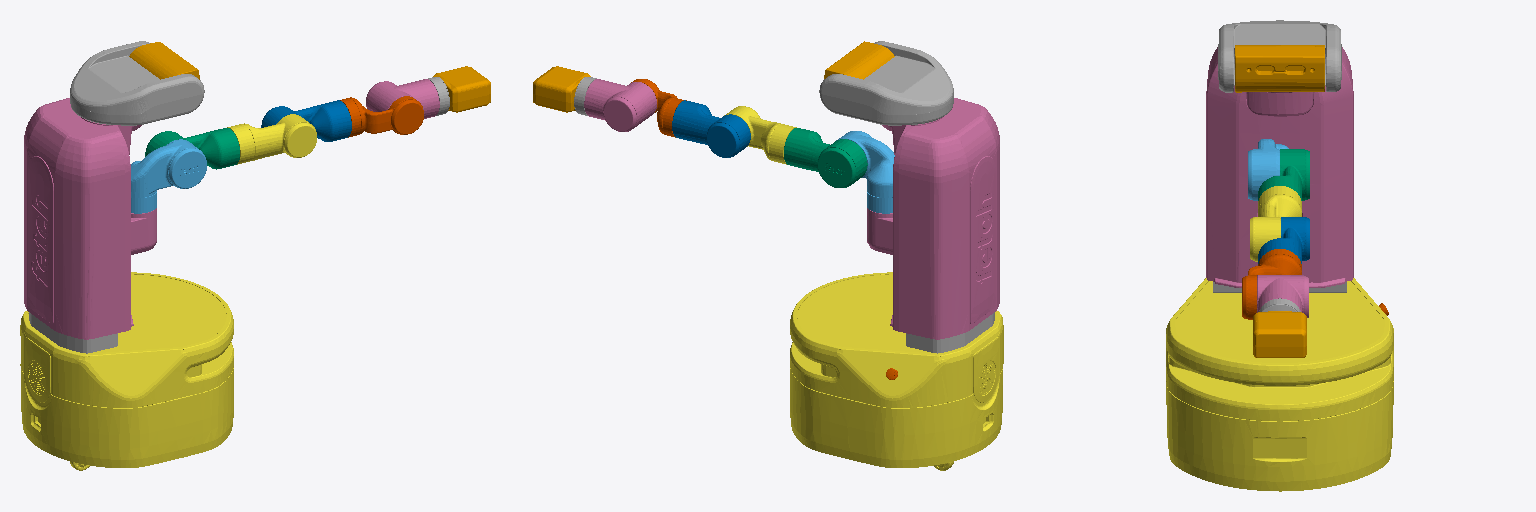
The robot description file, URDF, robot "fetch":
<robot name="fetch">

  <link name="root">
    <inertial>
      <mass value="0"/>
      <inertia ixx="0.00" ixy="0.00" ixz="0.00" iyy="0.00" iyz="0.00" izz="0.00"/>
    </inertial>
  </link>
  <link name="root_arm_1_link_1">
    <inertial>
      <mass value="0"/>
      <inertia ixx="0.00" ixy="0.00" ixz="0.00" iyy="0.00" iyz="0.00" izz="0.00"/>
    </inertial>
  </link>
  <link name="root_arm_1_link_2">
    <inertial>
      <mass value="0"/>
      <inertia ixx="0.00" ixy="0.00" ixz="0.00" iyy="0.00" iyz="0.00" izz="0.00"/>
    </inertial>
  </link>
  <joint name="root_x_axis_joint" type="prismatic">
    <parent link="root"/>
    <child link="root_arm_1_link_1"/>
    <axis xyz="1 0 0"/>
    <limit effort="100" lower="-20" upper="20" velocity="0.50"/>
    <dynamics damping="10.0" friction="10"/>
  </joint>
  <joint name="root_y_axis_joint" type="prismatic">
    <parent link="root_arm_1_link_1"/>
    <child link="root_arm_1_link_2"/>
    <axis xyz="0 1 0"/>
    <limit effort="100" lower="-20" upper="20" velocity="0.50"/>
    <dynamics damping="10.0" friction="10"/>
  </joint>
  <joint name="root_z_rotation_joint" type="revolute">
    <parent link="root_arm_1_link_2"/>
    <child link="base_link"/>
    <axis xyz="0 0 1"/>
    <dynamics damping="10.0" friction="1"/>
    <limit lower="-314" upper="314"/>
  </joint>

  <link name="base_link">
    <inertial>
      <origin rpy="0 0 0" xyz="-0.0036 0.0 0.0014"/>
      <mass value="70.1294"/>
      <inertia ixx="1.225" ixy="0.0099" ixz="0.0062" iyy="1.2853" iyz="-0.0034" izz="0.987"/>
    </inertial>
    <visual>
      <origin rpy="0 0 0" xyz="0 0 0"/>
      <geometry>
        <mesh filename="fetch_description/meshes/base_link.obj"/>
      </geometry>
    </visual>
    <collision>
      <origin rpy="0 0 0" xyz="0 0 0"/>
      <geometry>
        <mesh filename="fetch_description/meshes/base_link_collision.STL"/>
      </geometry>
    </collision>
  </link>
  <link name="r_wheel_link">
    <inertial>
      <origin rpy="0 0 0" xyz="0 0 0"/>
      <mass value="4.3542"/>
      <inertia ixx="0.0045" ixy="0" ixz="0" iyy="0.005" iyz="0" izz="0.0045"/>
    </inertial>
    <visual>
      <origin rpy="0 0 0" xyz="0 0 0"/>
      <geometry>
        <mesh filename="fetch_description/meshes/r_wheel_link.STL"/>
      </geometry>
      <material name="">
        <color rgba="0.086 0.506 0.767 1"/>
      </material>
    </visual>
    <collision>
      <origin rpy="0 0 0" xyz="0 0 0"/>
      <geometry>
        <mesh filename="fetch_description/meshes/r_wheel_link_collision.STL"/>
      </geometry>
    </collision>
  </link>
  <joint name="r_wheel_joint" type="fixed">
    <origin rpy="-6.123E-17 0 0" xyz="0.0012914 -0.18738 0.055325"/>
    <parent link="base_link"/>
    <child link="r_wheel_link"/>
    <axis xyz="0 1 0"/>
    <limit effort="8.85" velocity="17.4"/>
  </joint>
  <link name="l_wheel_link">
    <inertial>
      <origin rpy="0 0 0" xyz="0 0 0"/>
      <mass value="4.3542"/>
      <inertia ixx="0.0045" ixy="0" ixz="0" iyy="0.005" iyz="0" izz="0.0045"/>
    </inertial>
    <visual>
      <origin rpy="0 0 0" xyz="0 0 0"/>
      <geometry>
        <mesh filename="fetch_description/meshes/l_wheel_link.STL"/>
      </geometry>
      <material name="">
        <color rgba="0.086 0.506 0.767 1"/>
      </material>
    </visual>
    <collision>
      <origin rpy="0 0 0" xyz="0 0 0"/>
      <geometry>
        <mesh filename="fetch_description/meshes/l_wheel_link_collision.STL"/>
      </geometry>
    </collision>
  </link>
  <joint name="l_wheel_joint" type="fixed">
    <origin rpy="-6.123E-17 0 0" xyz="0.0012914 0.18738 0.055325"/>
    <parent link="base_link"/>
    <child link="l_wheel_link"/>
    <axis xyz="0 1 0"/>
    <limit effort="8.85" velocity="17.4"/>
  </joint>
  <link name="torso_lift_link">
    <inertial>
      <origin rpy="0 0 0" xyz="-0.0013 -0.0009 0.2935"/>
      <mass value="10.7796"/>
      <inertia ixx="0.3354" ixy="0.0" ixz="-0.0162" iyy="0.3354" iyz="-0.0006" izz="0.0954"/>
    </inertial>
    <visual>
      <origin rpy="0 0 0" xyz="0 0 0"/>
      <geometry>
        <mesh filename="fetch_description/meshes/torso_lift_link.obj"/>
      </geometry>
    </visual>
    <collision>
      <origin rpy="0 0 0" xyz="0 0 0"/>
      <geometry>
        <mesh filename="fetch_description/meshes/torso_lift_link_collision.STL"/>
      </geometry>
    </collision>
  </link>
  <joint name="torso_lift_joint" type="prismatic">
    <origin rpy="-6.123E-17 0 0" xyz="-0.086875 0 0.37743"/>
    <parent link="base_link"/>
    <child link="torso_lift_link"/>
    <axis xyz="0 0 1"/>
    <limit effort="450.0" lower="0" upper="0.38615" velocity="0.1"/>
    <dynamics damping="100.0"/>
  </joint>
  <link name="head_pan_link">
    <inertial>
      <origin rpy="0 0 0" xyz="0.0321 0.0161 0.0390"/>
      <mass value="2.2556"/>
      <inertia ixx="0.0129" ixy="0.0002" ixz="0.0007" iyy="0.0095" iyz="-0.0" izz="0.0184"/>
    </inertial>
    <visual>
      <origin rpy="0 0 0" xyz="0 0 0"/>
      <geometry>
        <mesh filename="fetch_description/meshes/head_pan_link.obj"/>
      </geometry>
    </visual>
    <collision>
      <origin rpy="0 0 0" xyz="0 0 0"/>
      <geometry>
        <mesh filename="fetch_description/meshes/head_pan_link_collision.STL"/>
      </geometry>
    </collision>
  </link>
  <joint name="head_pan_joint" type="revolute">
    <origin rpy="0 0 0" xyz="0.053125 0 0.603001417713939"/>
    <parent link="torso_lift_link"/>
    <child link="head_pan_link"/>
    <axis xyz="0 0 1"/>
    <limit effort="0.32" lower="-1.57" upper="1.57" velocity="1.57"/>
  </joint>
  <link name="head_tilt_link">
    <inertial>
      <origin rpy="0 0 0" xyz="0.0081 0.0025 0.0113"/>
      <mass value="0.9087"/>
      <inertia ixx="0.0061" ixy="-0.0" ixz="0.0002" iyy="0.0014" iyz="-0.0001" izz="0.0061"/>
    </inertial>
    <visual>
      <origin rpy="0 0 0" xyz="0 0 0"/>
      <geometry>
        <mesh filename="fetch_description/meshes/head_tilt_link.obj"/>
      </geometry>
    </visual>
    <collision>
      <origin rpy="0 0 0" xyz="0 0 0"/>
      <geometry>
        <mesh filename="fetch_description/meshes/head_tilt_link_collision.STL"/>
      </geometry>
    </collision>
  </link>
  <joint name="head_tilt_joint" type="revolute">
    <origin rpy="0 0 0" xyz="0.14253 0 0.057999"/>
    <parent link="head_pan_link"/>
    <child link="head_tilt_link"/>
    <axis xyz="0 1 0"/>
    <limit effort="0.68" lower="-0.76" upper="1.45" velocity="1.57"/>
  </joint>
  <link name="shoulder_pan_link">
    <inertial>
      <origin rpy="0 0 0" xyz="0.0927 -0.0056 0.0564"/>
      <mass value="2.5587"/>
      <inertia ixx="0.0043" ixy="-0.0001" ixz="0.001" iyy="0.0087" iyz="-0.0001" izz="0.0087"/>
    </inertial>
    <visual>
      <origin rpy="0 0 0" xyz="0 0 0"/>
      <geometry>
        <mesh filename="fetch_description/meshes/shoulder_pan_link.obj"/>
      </geometry>
    </visual>
    <collision>
      <origin rpy="0 0 0" xyz="0 0 0"/>
      <geometry>
        <mesh filename="fetch_description/meshes/shoulder_pan_link_collision.STL"/>
      </geometry>
    </collision>
  </link>
  <joint name="shoulder_pan_joint" type="revolute">
    <origin rpy="0 0 0" xyz="0.119525 0 0.34858"/>
    <parent link="torso_lift_link"/>
    <child link="shoulder_pan_link"/>
    <axis xyz="0 0 1"/>
    <dynamics damping="1.0"/>
    <limit effort="33.82" lower="-1.6056" upper="1.6056" velocity="1.256"/>
  </joint>
  <link name="shoulder_lift_link">
    <inertial>
      <origin rpy="0 0 0" xyz="0.1432 0.0072 -0.0001"/>
      <mass value="2.6615"/>
      <inertia ixx="0.0028" ixy="-0.0021" ixz="-0.0" iyy="0.0111" iyz="-0.0" izz="0.0112"/>
    </inertial>
    <visual>
      <origin rpy="0 0 0" xyz="0 0 0"/>
      <geometry>
        <mesh filename="fetch_description/meshes/shoulder_lift_link.obj"/>
      </geometry>
    </visual>
    <collision>
      <origin rpy="0 0 0" xyz="0 0 0"/>
      <geometry>
        <mesh filename="fetch_description/meshes/shoulder_lift_link_collision.STL"/>
      </geometry>
    </collision>
  </link>
  <joint name="shoulder_lift_joint" type="revolute">
    <origin rpy="0 0 0" xyz="0.117 0 0.0599999999999999"/>
    <parent link="shoulder_pan_link"/>
    <child link="shoulder_lift_link"/>
    <axis xyz="0 1 0"/>
    <dynamics damping="1.0"/>
    <limit effort="131.76" lower="-1.221" upper="1.518" velocity="1.454"/>
  </joint>
  <link name="upperarm_roll_link">
    <inertial>
      <origin rpy="0 0 0" xyz="0.1165 0.0014 0.0000"/>
      <mass value="2.3311"/>
      <inertia ixx="0.0019" ixy="-0.0001" ixz="0.0" iyy="0.0045" iyz="0.0" izz="0.0047"/>
    </inertial>
    <visual>
      <origin rpy="0 0 0" xyz="0 0 0"/>
      <geometry>
        <mesh filename="fetch_description/meshes/upperarm_roll_link.obj"/>
      </geometry>
    </visual>
    <collision>
      <origin rpy="0 0 0" xyz="0 0 0"/>
      <geometry>
        <mesh filename="fetch_description/meshes/upperarm_roll_link_collision.STL"/>
      </geometry>
    </collision>
  </link>
  <joint name="upperarm_roll_joint" type="revolute">
    <origin rpy="0 0 0" xyz="0.219 0 0"/>
    <parent link="shoulder_lift_link"/>
    <child link="upperarm_roll_link"/>
    <axis xyz="1 0 0"/>
    <dynamics damping="5.0"/>
    <limit effort="76.94" lower="-314" upper="314" velocity="1.571"/>
  </joint>
  <link name="elbow_flex_link">
    <inertial>
      <origin rpy="0 0 0" xyz="0.1279 0.0073 0.0000"/>
      <mass value="2.1299"/>
      <inertia ixx="0.0024" ixy="-0.0016" ixz="0.0" iyy="0.0082" iyz="-0.0" izz="0.0084"/>
    </inertial>
    <visual>
      <origin rpy="0 0 0" xyz="0 0 0"/>
      <geometry>
        <mesh filename="fetch_description/meshes/elbow_flex_link.obj"/>
      </geometry>
    </visual>
    <collision>
      <origin rpy="0 0 0" xyz="0 0 0"/>
      <geometry>
        <mesh filename="fetch_description/meshes/elbow_flex_link_collision.STL"/>
      </geometry>
    </collision>
  </link>
  <joint name="elbow_flex_joint" type="revolute">
    <origin rpy="0 0 0" xyz="0.133 0 0"/>
    <parent link="upperarm_roll_link"/>
    <child link="elbow_flex_link"/>
    <axis xyz="0 1 0"/>
    <dynamics damping="1.0"/>
    <limit effort="66.18" lower="-2.251" upper="2.251" velocity="1.521"/>
  </joint>
  <link name="forearm_roll_link">
    <inertial>
      <origin rpy="0 0 0" xyz="0.1097 -0.0266 0.0000"/>
      <mass value="1.6563"/>
      <inertia ixx="0.0016" ixy="-0.0003" ixz="0.0" iyy="0.003" iyz="-0.0" izz="0.0035"/>
    </inertial>
    <visual>
      <origin rpy="0 0 0" xyz="0 0 0"/>
      <geometry>
        <mesh filename="fetch_description/meshes/forearm_roll_link.obj"/>
      </geometry>
    </visual>
    <collision>
      <origin rpy="0 0 0" xyz="0 0 0"/>
      <geometry>
        <mesh filename="fetch_description/meshes/forearm_roll_link_collision.STL"/>
      </geometry>
    </collision>
  </link>
  <joint name="forearm_roll_joint" type="revolute">
    <origin rpy="0 0 0" xyz="0.197 0 0"/>
    <parent link="elbow_flex_link"/>
    <child link="forearm_roll_link"/>
    <axis xyz="1 0 0"/>
    <dynamics damping="5.0"/>
    <limit effort="29.35" lower="-314" upper="314" velocity="1.571"/>
  </joint>
  <link name="wrist_flex_link">
    <inertial>
      <origin rpy="0 0 0" xyz="0.0882 0.0009 -0.0001"/>
      <mass value="1.725"/>
      <inertia ixx="0.0018" ixy="-0.0001" ixz="-0.0" iyy="0.0042" iyz="0.0" izz="0.0042"/>
    </inertial>
    <visual>
      <origin rpy="0 0 0" xyz="0 0 0"/>
      <geometry>
        <mesh filename="fetch_description/meshes/wrist_flex_link.obj"/>
      </geometry>
    </visual>
    <collision>
      <origin rpy="0 0 0" xyz="0 0 0"/>
      <geometry>
        <mesh filename="fetch_description/meshes/wrist_flex_link_collision.STL"/>
      </geometry>
    </collision>
  </link>
  <joint name="wrist_flex_joint" type="revolute">
    <origin rpy="0 0 0" xyz="0.1245 0 0"/>
    <parent link="forearm_roll_link"/>
    <child link="wrist_flex_link"/>
    <axis xyz="0 1 0"/>
    <dynamics damping="1.0"/>
    <limit effort="25.7" lower="-2.16" upper="2.16" velocity="2.268"/>
  </joint>
  <link name="wrist_roll_link">
    <inertial>
      <origin rpy="0 0 0" xyz="0.0095 0.0004 -0.0002"/>
      <mass value="0.1354"/>
      <inertia ixx="0.0001" ixy="0.0" ixz="0.0" iyy="0.0001" iyz="0.0" izz="0.0001"/>
    </inertial>
    <visual>
      <origin rpy="0 0 0" xyz="0 0 0"/>
      <geometry>
        <mesh filename="fetch_description/meshes/wrist_roll_link.obj"/>
      </geometry>
    </visual>
    <collision>
      <origin rpy="0 0 0" xyz="0 0 0"/>
      <geometry>
        <mesh filename="fetch_description/meshes/wrist_roll_link_collision.STL"/>
      </geometry>
    </collision>
  </link>
  <joint name="wrist_roll_joint" type="revolute">
    <origin rpy="0 0 0" xyz="0.1385 0 0"/>
    <parent link="wrist_flex_link"/>
    <child link="wrist_roll_link"/>
    <axis xyz="1 0 0"/>
    <limit effort="7.36" lower="-314" upper="314" velocity="2.268"/>
    <dynamics damping="5.0"/>
  </joint>
  <link name="gripper_link">
    <inertial>
      <origin rpy="0 0 0" xyz="-0.0900 -0.0001 -0.0017"/>
      <mass value="1.5175"/>
      <inertia ixx="0.0013" ixy="-0.0" ixz="0.0" iyy="0.0019" iyz="-0.0" izz="0.0024"/>
    </inertial>
    <visual>
      <origin rpy="0 0 0" xyz="0 0 0"/>
      <geometry>
        <mesh filename="fetch_description/meshes/gripper_link.obj"/>
      </geometry>
    </visual>
    <collision>
      <origin rpy="0 0 0" xyz="0 0 0"/>
      <geometry>
        <mesh filename="fetch_description/meshes/gripper_link.STL"/>
      </geometry>
    </collision>
  </link>
  <joint name="gripper_axis" type="fixed">
    <origin rpy="0 0 0" xyz="0.16645 0 0"/>
    <parent link="wrist_roll_link"/>
    <child link="gripper_link"/>
    <axis xyz="0 1 0"/>
  </joint>
  <link name="r_gripper_finger_link">
    <inertial>
      <origin rpy="0 0 0" xyz="-0.01 0 0"/>
      <mass value="0.0798"/>
      <inertia ixx="0.002" ixy="0" ixz="0" iyy="0.0002" iyz="0" izz="0.0002"/>
    </inertial>
    <visual>
      <origin rpy="0 0 0" xyz="0 0.101425 0"/>
      <geometry>
        <mesh filename="fetch_description/meshes/r_gripper_finger_link.STL"/>
      </geometry>
      <material name="">
        <color rgba="0.356 0.361 0.376 1"/>
      </material>
    </visual>
    <collision>
      <origin rpy="0 0 0" xyz="0 -0.008 0"/>
      <geometry>
        <box size="0.063 0.012 0.024"/>
      </geometry>
    </collision>
  </link>
  <joint name="r_gripper_finger_joint" type="prismatic">
    <origin rpy="0 0 0" xyz="0 0.015425 0"/>
    <parent link="gripper_link"/>
    <child link="r_gripper_finger_link"/>
    <axis xyz="0 1 0"/>
    <limit effort="60" lower="0.0" upper="0.05" velocity="0.05"/>
    <dynamics damping="100.0"/>
  </joint>
  <link name="l_gripper_finger_link">
    <inertial>
      <origin rpy="0 0 0" xyz="-0.01 0 0"/>
      <mass value="0.0798"/>
      <inertia ixx="0.002" ixy="0" ixz="0" iyy="0.0002" iyz="0" izz="0.0002"/>
    </inertial>
    <visual>
      <origin rpy="0 0 0" xyz="0 -0.101425 0"/>
      <geometry>
        <mesh filename="fetch_description/meshes/l_gripper_finger_link.STL"/>
      </geometry>
      <material name="">
        <color rgba="0.356 0.361 0.376 1"/>
      </material>
    </visual>
    <collision>
      <origin rpy="0 0 0" xyz="0 0.008 0"/>
      <geometry>
        <box size="0.063 0.012 0.024"/>
      </geometry>
    </collision>
  </link>
  <joint name="l_gripper_finger_joint" type="prismatic">
    <origin rpy="0 0 0" xyz="0 -0.015425 0"/>
    <parent link="gripper_link"/>
    <child link="l_gripper_finger_link"/>
    <axis xyz="0 -1 0"/>
    <limit effort="60" lower="0.0" upper="0.05" velocity="0.05"/>
    <dynamics damping="100.0"/>
  </joint>
  <link name="bellows_link">
    <inertial>
      <origin rpy="0 0 0" xyz="0.0191320000286228 -1.67219873481315E-16 -0.134861625443387"/>
      <mass value="0.169374038216602"/>
      <inertia ixx="0.00331159128762117" ixy="-8.9230964321455E-18" ixz="-5.38622201018293E-08"
               iyy="0.00174447292786627" iyz="-8.06964979976371E-17" izz="0.00169417568121457"/>
    </inertial>
    <!--    <visual>-->
    <!--      <origin rpy="0 0 0" xyz="0 0 0" />-->
    <!--      <geometry>-->
    <!--        <mesh filename="fetch_description/meshes/bellows_link.STL" />-->
    <!--      </geometry>-->
    <!--      <material name="">-->
    <!--        <color rgba="0 0 0 1" />-->
    <!--      </material>-->
    <!--    </visual>-->
    <!--    <collision>-->
    <!--      <origin rpy="0 0 0" xyz="0 0 0" />-->
    <!--      <geometry>-->
    <!--        <mesh filename="fetch_description/meshes/bellows_link_collision.STL" />-->
    <!--      </geometry>-->
    <!--    </collision>-->
  </link>
  <joint name="bellows_joint" type="fixed">
    <origin rpy="0 0 0" xyz="0 0 0"/>
    <parent link="torso_lift_link"/>
    <child link="bellows_link"/>
    <axis xyz="0 0 -1"/>
    <limit effort="5.0" lower="0" upper="0.4" velocity="0.1"/>
  </joint>
  <link name="bellows_link2">
    <inertial>
      <origin rpy="0 0 0" xyz="0.0191320000286228 -1.67219873481315E-16 -0.134861625443387"/>
      <mass value="0.169374038216602"/>
      <inertia ixx="0.00331159128762117" ixy="-8.9230964321455E-18" ixz="-5.38622201018293E-08"
               iyy="0.00174447292786627" iyz="-8.06964979976371E-17" izz="0.00169417568121457"/>
    </inertial>
    <visual>
      <origin rpy="0 0 0" xyz="0 0 0"/>
      <geometry>
        <mesh filename="fetch_description/meshes/bellows_link.STL"/>
      </geometry>
      <material name="">
        <color rgba="0 0 0 1"/>
      </material>
    </visual>
    <collision>
      <origin rpy="0 0 0" xyz="0 0 0"/>
      <geometry>
        <mesh filename="fetch_description/meshes/bellows_link_collision.STL"/>
      </geometry>
    </collision>
  </link>
  <joint name="bellows_joint2" type="fixed">
    <origin rpy="0 0 0" xyz="0 0 0"/>
    <parent link="torso_lift_link"/>
    <child link="bellows_link2"/>
  </joint>
  <link name="estop_link">
    <inertial>
      <origin rpy="0 0 0" xyz="0.002434512737072 -0.00330608315239905 0.00665139196650039"/>
      <mass value="0.00196130439134723"/>
      <inertia ixx="3.02810026604417E-07" ixy="-1.5862023118056E-08" ixz="3.16561396557437E-08"
               iyy="2.93322917127605E-07" iyz="-4.28833522751273E-08" izz="2.28513272627183E-07"/>
    </inertial>
    <visual>
      <origin rpy="0 0 0" xyz="0 0 0"/>
      <geometry>
        <mesh filename="fetch_description/meshes/estop_link.obj"/>
      </geometry>
    </visual>
    <collision>
      <origin rpy="0 0 0" xyz="0 0 0"/>
      <geometry>
        <mesh filename="fetch_description/meshes/estop_link.STL"/>
      </geometry>
    </collision>
  </link>
  <joint name="estop_joint" type="fixed">
    <origin rpy="1.5708 0 0" xyz="-0.12465 0.23892 0.31127"/>
    <parent link="base_link"/>
    <child link="estop_link"/>
    <axis xyz="0 0 0"/>
  </joint>
  <link name="laser_link">
    <inertial>
      <origin rpy="0 0 0" xyz="-0.0306228970175641 0.0007091682908278 0.0551974119471302"/>
      <mass value="0.00833634573995571"/>
      <inertia ixx="1.01866461240801E-06" ixy="-5.88447626567756E-08" ixz="7.83857244757914E-08"
               iyy="5.10039589974707E-07" iyz="-7.12664289617235E-09" izz="1.28270671527309E-06"/>
    </inertial>
    <visual>
      <origin rpy="0 0 0" xyz="0 0 0"/>
      <geometry>
        <mesh filename="fetch_description/meshes/laser_link.STL"/>
      </geometry>
      <material name="">
        <color rgba="0.792156862745098 0.819607843137255 0.933333333333333 1"/>
      </material>
    </visual>
    <collision>
      <origin rpy="0 0 0" xyz="0 0 0"/>
      <geometry>
        <mesh filename="fetch_description/meshes/laser_link.STL"/>
      </geometry>
    </collision>
  </link>
  <joint name="laser_joint" type="fixed">
    <origin rpy="3.14159265359 0 0" xyz="0.235 0 0.2878"/>
    <parent link="base_link"/>
    <child link="laser_link"/>
    <axis xyz="0 0 0"/>
  </joint>
  <link name="torso_fixed_link">
    <inertial>
      <origin rpy="0 0 0" xyz="-0.0722 0.0057 0.2656"/>
      <mass value="13.2775"/>
      <inertia ixx="0.3861" ixy="0.0015" ixz="-0.0102" iyy="0.3388" iyz="0.0117" izz="0.1018"/>
    </inertial>
    <visual>
      <origin rpy="0 0 0" xyz="0 0 0"/>
      <geometry>
        <mesh filename="fetch_description/meshes/torso_fixed_link.obj"/>
      </geometry>
    </visual>
    <collision>
      <origin rpy="0 0 0" xyz="0 0 0"/>
      <geometry>
        <mesh filename="fetch_description/meshes/torso_fixed_link.STL"/>
      </geometry>
    </collision>
  </link>
  <joint name="torso_fixed_joint" type="fixed">
    <origin rpy="-6.12303176911189E-17 0 0" xyz="-0.086875 0 0.377425"/>
    <parent link="base_link"/>
    <child link="torso_fixed_link"/>
    <axis xyz="0 1 0"/>
  </joint>
  <link name="head_camera_link"/>
  <joint name="head_camera_joint" type="fixed">
    <origin rpy="0 0 0" xyz="0.055 0 0.0225"/>
    <parent link="head_tilt_link"/>
    <child link="head_camera_link"/>
  </joint>
  <link name="head_camera_rgb_frame"/>
  <joint name="head_camera_rgb_joint" type="fixed">
    <origin rpy="0 0 0" xyz="0 0.02 0"/>
    <parent link="head_camera_link"/>
    <child link="head_camera_rgb_frame"/>
  </joint>
  <link name="head_camera_rgb_optical_frame"/>
  <joint name="head_camera_rgb_optical_joint" type="fixed">
    <origin rpy="-1.57079632679 0 -1.57079632679" xyz="0 0 0"/>
    <parent link="head_camera_rgb_frame"/>
    <child link="head_camera_rgb_optical_frame"/>
  </joint>
  <link name="head_camera_depth_frame"/>
  <joint name="head_camera_depth_joint" type="fixed">
    <origin rpy="0 0 0" xyz="0 0.045 0"/>
    <parent link="head_camera_link"/>
    <child link="head_camera_depth_frame"/>
  </joint>
  <link name="head_camera_depth_optical_frame"/>
  <joint name="head_camera_depth_optical_joint" type="fixed">
    <origin rpy="-1.57079632679 0 -1.57079632679" xyz="0 0 0"/>
    <parent link="head_camera_depth_frame"/>
    <child link="head_camera_depth_optical_frame"/>
  </joint>
</robot>

--- Render facts (derived) ---
3 views of the same robot in one strip: view 1: azimuth 30°, elevation 25°; view 2: azimuth 150°, elevation 25°; view 3: azimuth 270°, elevation 25° (orthographic).
Robot: fetch — 29 links, 28 joints (10 revolute, 5 prismatic, 13 fixed); root link root; default pose: every joint at zero.
Links seen in each view (by area): view 1: base_link, torso_lift_link, head_pan_link, shoulder_pan_link, upperarm_roll_link, forearm_roll_link, elbow_flex_link, shoulder_lift_link, gripper_link, wrist_flex_link, head_tilt_link, torso_fixed_link; view 2: base_link, torso_lift_link, head_pan_link, shoulder_lift_link, elbow_flex_link, wrist_flex_link, shoulder_pan_link, gripper_link, upperarm_roll_link, head_tilt_link, torso_fixed_link, forearm_roll_link; view 3: base_link, torso_lift_link, head_pan_link, head_tilt_link, gripper_link, upperarm_roll_link, forearm_roll_link, shoulder_lift_link, wrist_flex_link, shoulder_pan_link, elbow_flex_link.
Boxes of the visible links, bbox=[...] form: base_link: bbox=[20, 272, 233, 470]; torso_lift_link: bbox=[24, 98, 156, 339]; head_pan_link: bbox=[70, 41, 204, 125]; shoulder_pan_link: bbox=[131, 139, 206, 213]; upperarm_roll_link: bbox=[227, 114, 316, 164]; forearm_roll_link: bbox=[340, 96, 423, 137]; elbow_flex_link: bbox=[261, 100, 351, 141]; shoulder_lift_link: bbox=[145, 128, 239, 169]; gripper_link: bbox=[433, 66, 490, 112]; wrist_flex_link: bbox=[366, 79, 439, 118]; head_tilt_link: bbox=[129, 42, 199, 79]; torso_fixed_link: bbox=[29, 312, 117, 353]; base_link: bbox=[790, 272, 1003, 470]; torso_lift_link: bbox=[867, 98, 999, 339]; head_pan_link: bbox=[819, 41, 953, 125]; shoulder_lift_link: bbox=[784, 128, 867, 187]; elbow_flex_link: bbox=[672, 100, 750, 157]; wrist_flex_link: bbox=[584, 79, 656, 131]; shoulder_pan_link: bbox=[836, 131, 894, 213]; gripper_link: bbox=[533, 66, 590, 112]; upperarm_roll_link: bbox=[724, 106, 796, 164]; head_tilt_link: bbox=[824, 41, 894, 79]; torso_fixed_link: bbox=[906, 312, 994, 353]; forearm_roll_link: bbox=[631, 79, 686, 137]; base_link: bbox=[1166, 278, 1393, 491]; torso_lift_link: bbox=[1206, 47, 1353, 287]; head_pan_link: bbox=[1218, 20, 1341, 92]; head_tilt_link: bbox=[1235, 45, 1324, 92]; gripper_link: bbox=[1253, 311, 1306, 357]; upperarm_roll_link: bbox=[1250, 186, 1301, 261]; forearm_roll_link: bbox=[1242, 249, 1301, 319]; shoulder_lift_link: bbox=[1258, 149, 1309, 200]; wrist_flex_link: bbox=[1257, 275, 1308, 317]; shoulder_pan_link: bbox=[1248, 139, 1288, 200]; elbow_flex_link: bbox=[1258, 217, 1309, 263].
Bounding box of the posed robot: 1.38 × 0.5283 × 1.09 m (x, y, z).
14 mesh visuals loaded from 20 distinct referenced files (14 OBJ); not drawn: 6 (reference not matched to a file when rendering).
